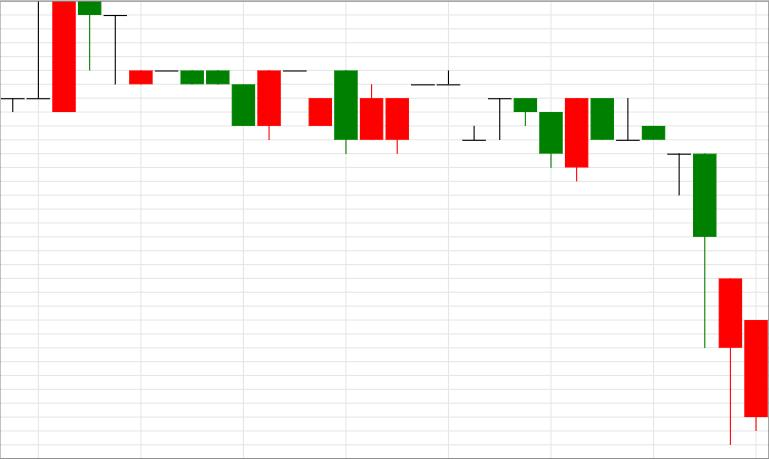bullish_engulfing_rise: (78, 1, 281, 140), (411, 70, 589, 182)
